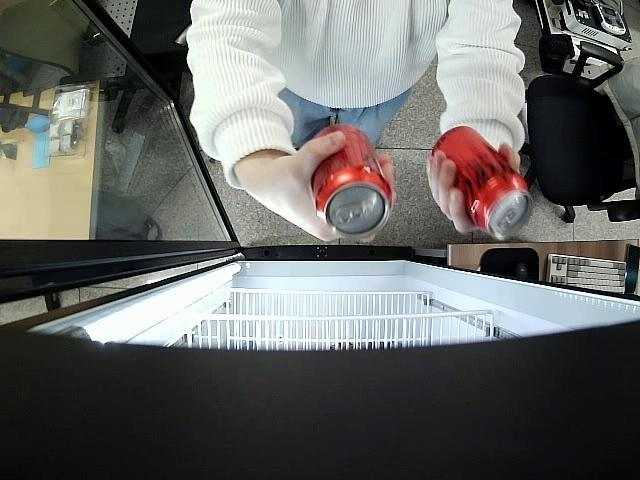11_cocaColaZero: (435, 126, 534, 232), (309, 126, 394, 234)
